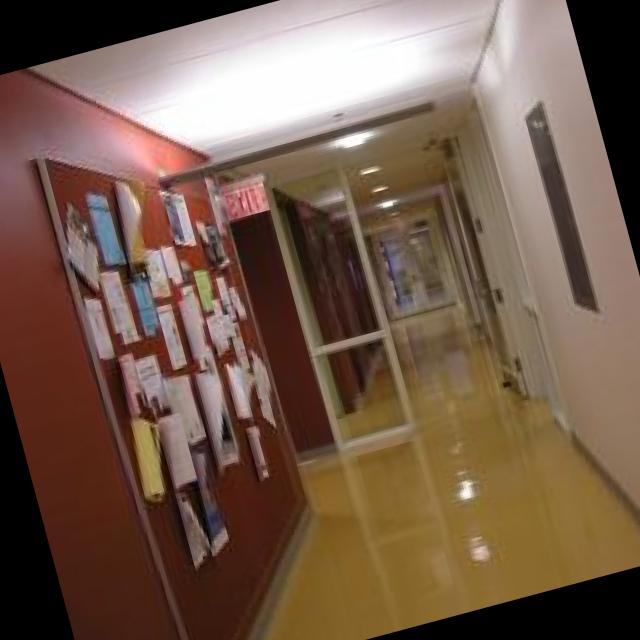bulletin board: (33, 156, 306, 640)
ceiling beam: (27, 0, 498, 228)
door handle: (261, 166, 416, 455), (369, 217, 445, 305)
exit sign: (214, 173, 266, 217)
floor -X: (255, 302, 640, 640)
light fixture: (327, 127, 374, 148), (374, 196, 396, 206), (358, 164, 379, 173), (368, 186, 385, 190)
paper cup with straws: (188, 452, 228, 553), (152, 410, 194, 486), (112, 182, 150, 260), (163, 374, 205, 442), (81, 192, 120, 261), (129, 418, 163, 497), (173, 492, 209, 566), (65, 199, 96, 284), (131, 352, 170, 419), (126, 260, 158, 333), (153, 191, 193, 243), (115, 353, 147, 415), (155, 301, 184, 368), (81, 299, 111, 357), (192, 220, 227, 267), (245, 424, 268, 479)
papers: (192, 268, 276, 427), (175, 280, 238, 464), (95, 271, 138, 342), (146, 244, 180, 297)
wall clock: (0, 68, 309, 640), (432, 0, 640, 512), (226, 207, 332, 451)
